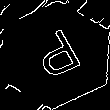P_SE: (23, 24, 87, 86)
